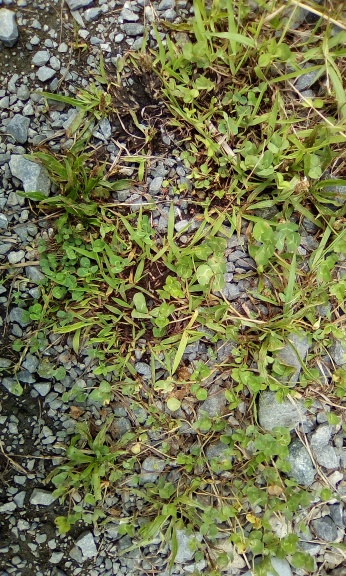4leaf: (154, 302, 174, 328), (162, 275, 184, 297)
